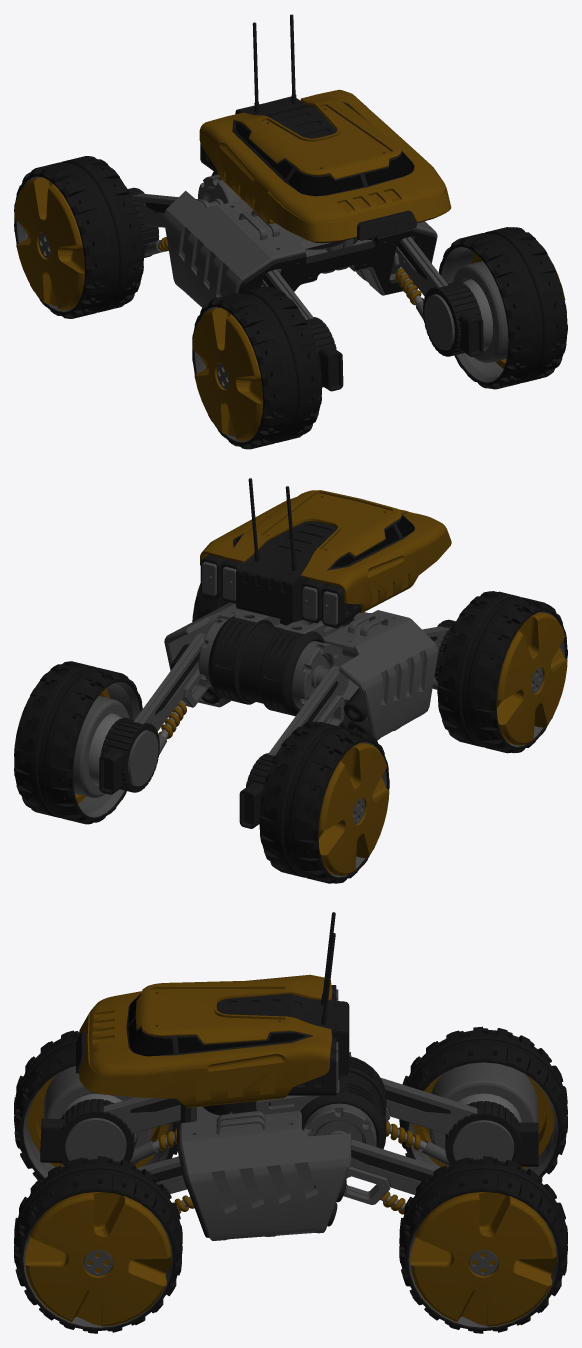
The model's file is ROVER.fbx.
3 renders of one model, top to bottom at view 1: azimuth 30°, elevation 25°; view 2: azimuth 150°, elevation 25°; view 3: azimuth 270°, elevation 25°, orthographic. The views are drawn at different scales.
Parts seen in each view (by area): view 1: COCKPIT, WHEEL.001, WHEEL.002, BASE, WHEEL.004, FRONT ARM, FRONT ARM.001, BACK ARM; view 2: COCKPIT, BASE, WHEEL.002, WHEEL.001, WHEEL.003, BACK ARM.001, BACK ARM, FRONT ARM.001, WHEEL.004; view 3: COCKPIT, BASE, WHEEL.003, WHEEL.004, WHEEL.002, BACK ARM, FRONT ARM.001, WHEEL.001, BACK ARM.001, FRONT ARM.
Part boxes in pixels (x1,y1,x2,y2): COCKPIT: [199, 14, 451, 243]; WHEEL.001: [192, 286, 322, 449]; WHEEL.002: [14, 156, 144, 318]; BASE: [163, 171, 437, 307]; WHEEL.004: [438, 227, 567, 389]; FRONT ARM: [371, 236, 483, 356]; FRONT ARM.001: [261, 269, 343, 391]; BACK ARM: [127, 187, 223, 257]; COCKPIT: [200, 478, 451, 628]; BASE: [164, 602, 438, 740]; WHEEL.002: [259, 721, 389, 883]; WHEEL.001: [437, 591, 567, 753]; WHEEL.003: [14, 661, 142, 824]; BACK ARM.001: [99, 633, 209, 794]; BACK ARM: [239, 665, 348, 828]; FRONT ARM.001: [342, 619, 455, 689]; WHEEL.004: [192, 583, 229, 621]; COCKPIT: [76, 912, 349, 1115]; BASE: [177, 1052, 386, 1240]; WHEEL.003: [399, 1156, 567, 1333]; WHEEL.004: [14, 1156, 182, 1333]; WHEEL.002: [399, 1026, 567, 1182]; BACK ARM: [381, 1078, 538, 1166]; FRONT ARM.001: [40, 1097, 180, 1165]; WHEEL.001: [14, 1030, 180, 1180]; BACK ARM.001: [328, 1130, 439, 1214]; FRONT ARM: [136, 1156, 194, 1213].
Bounding box in the file's own units: 8.01 × 5.35 × 5.71.
